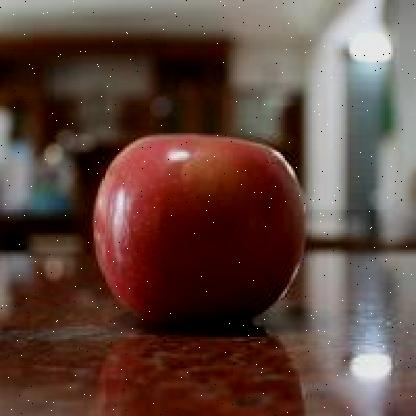apple: (93, 133, 300, 318)
